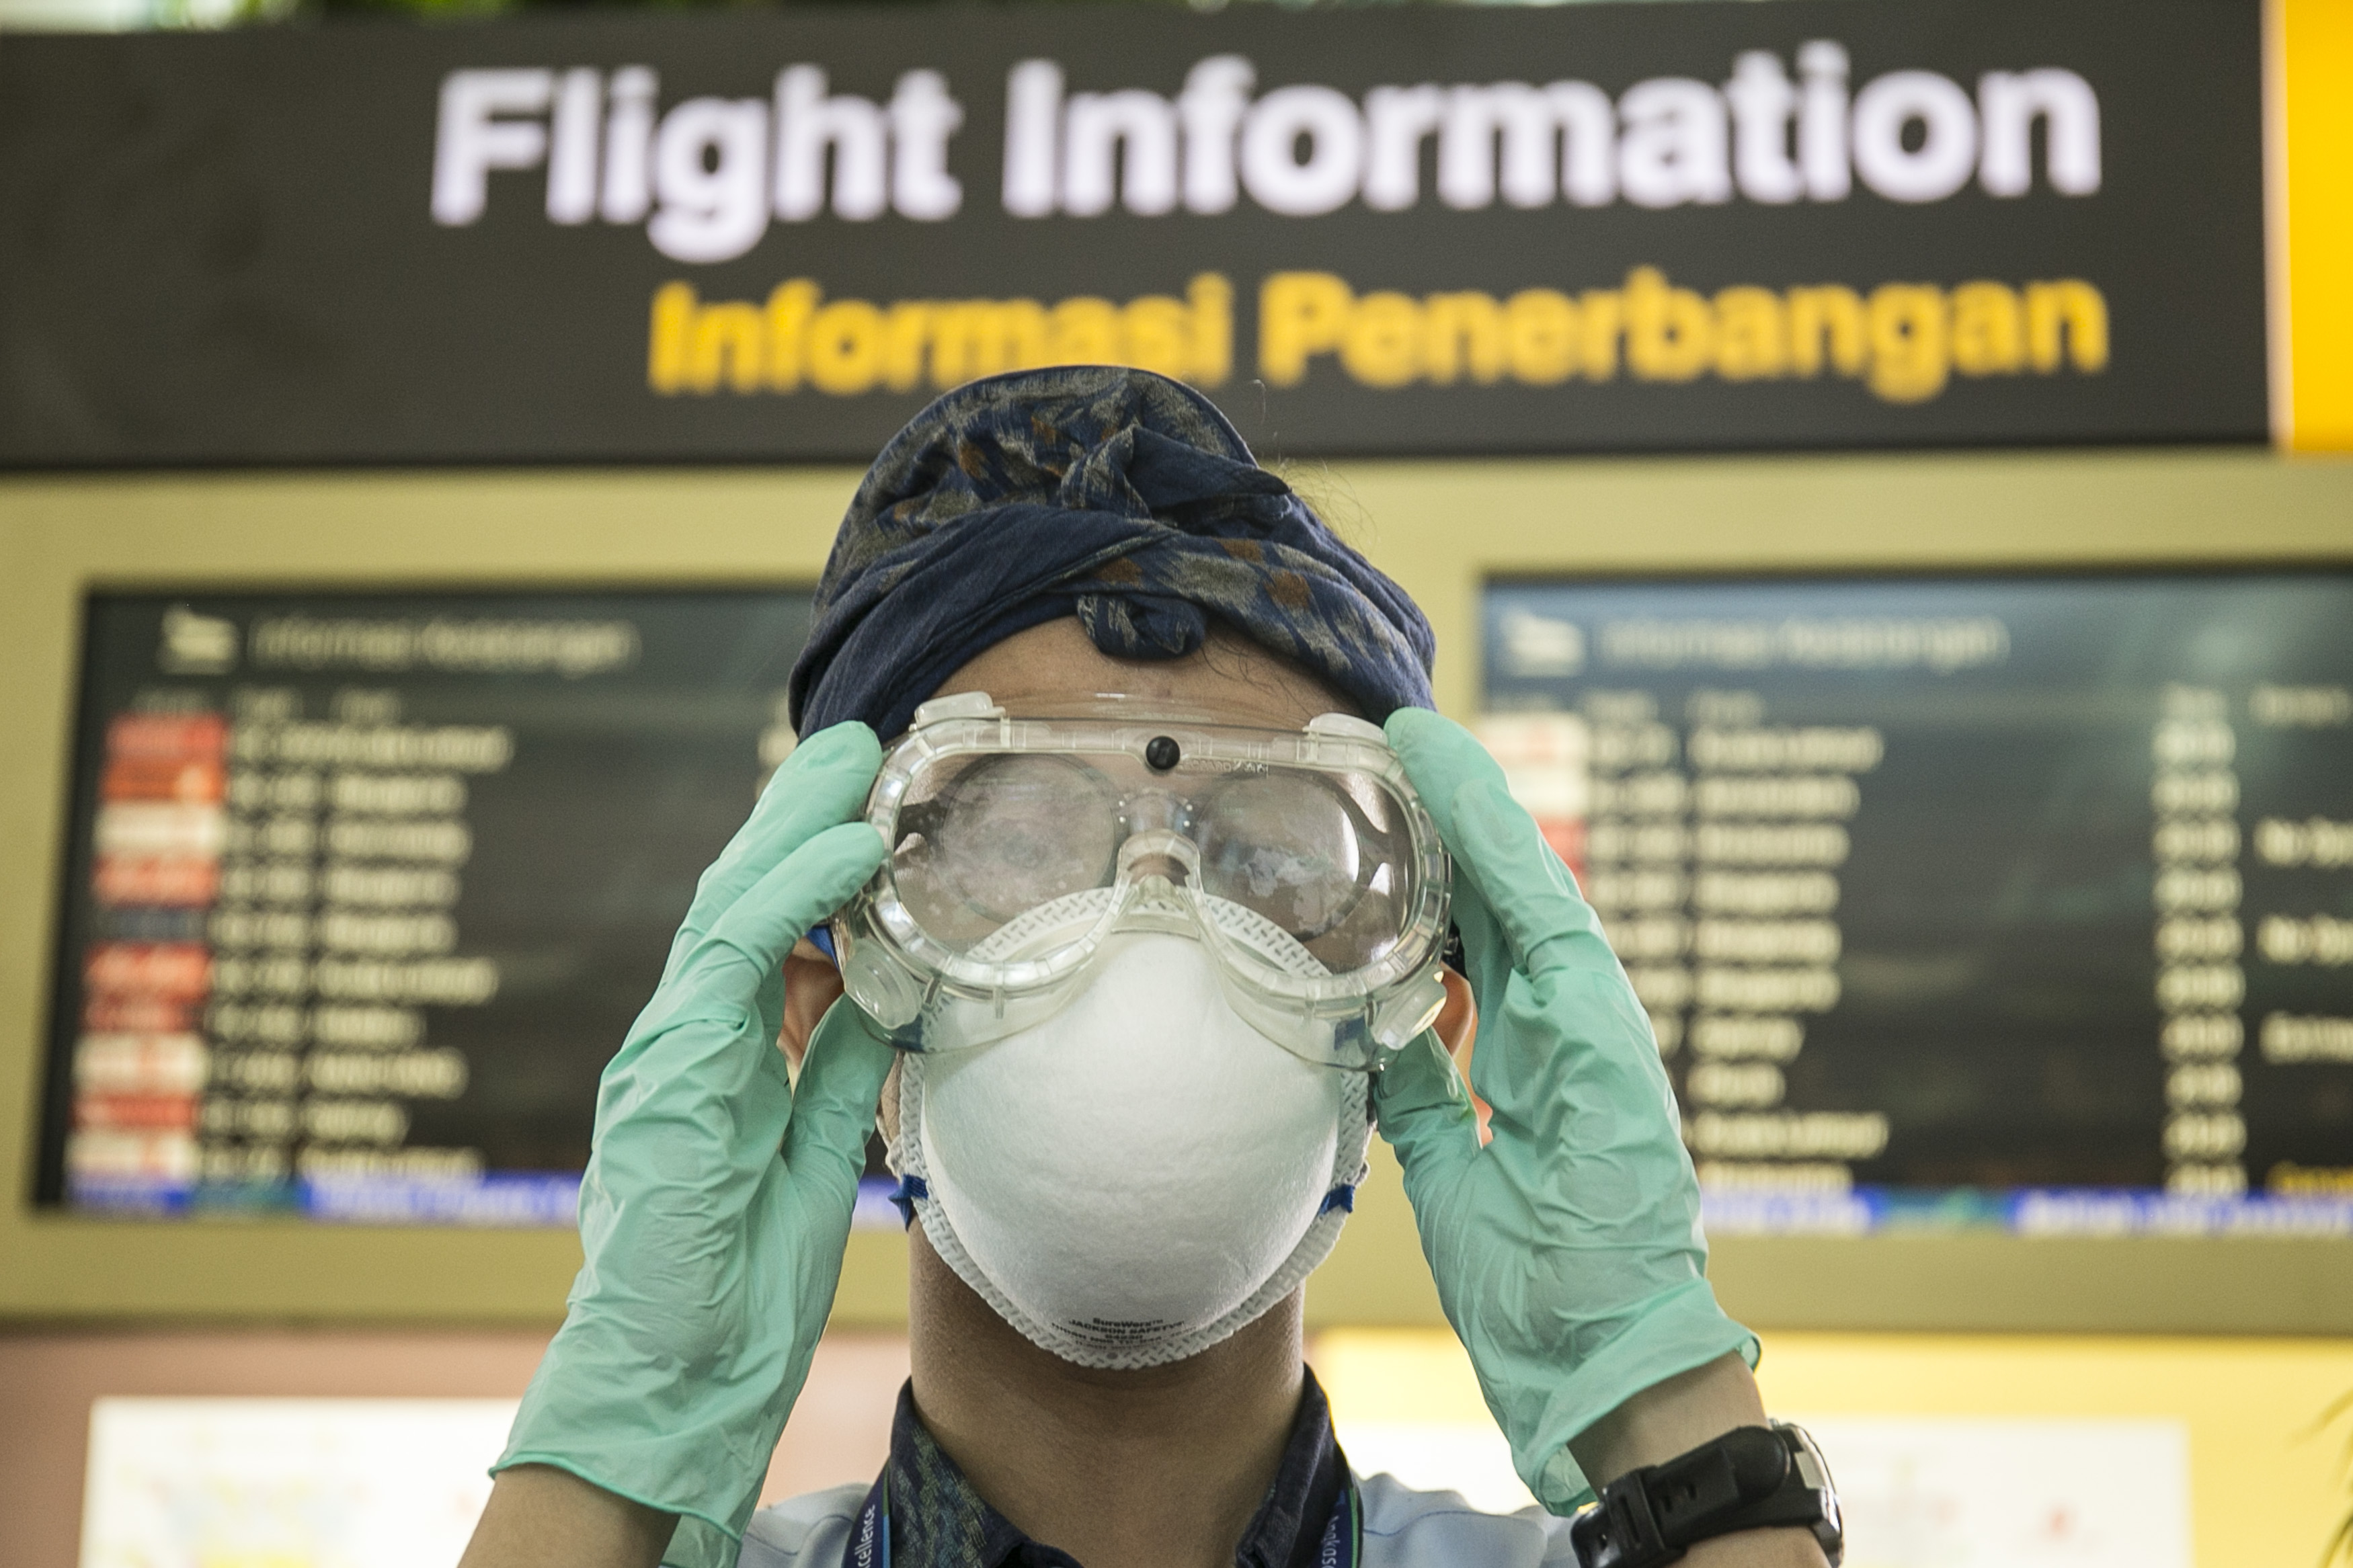n95: (877, 885, 1402, 1378)
